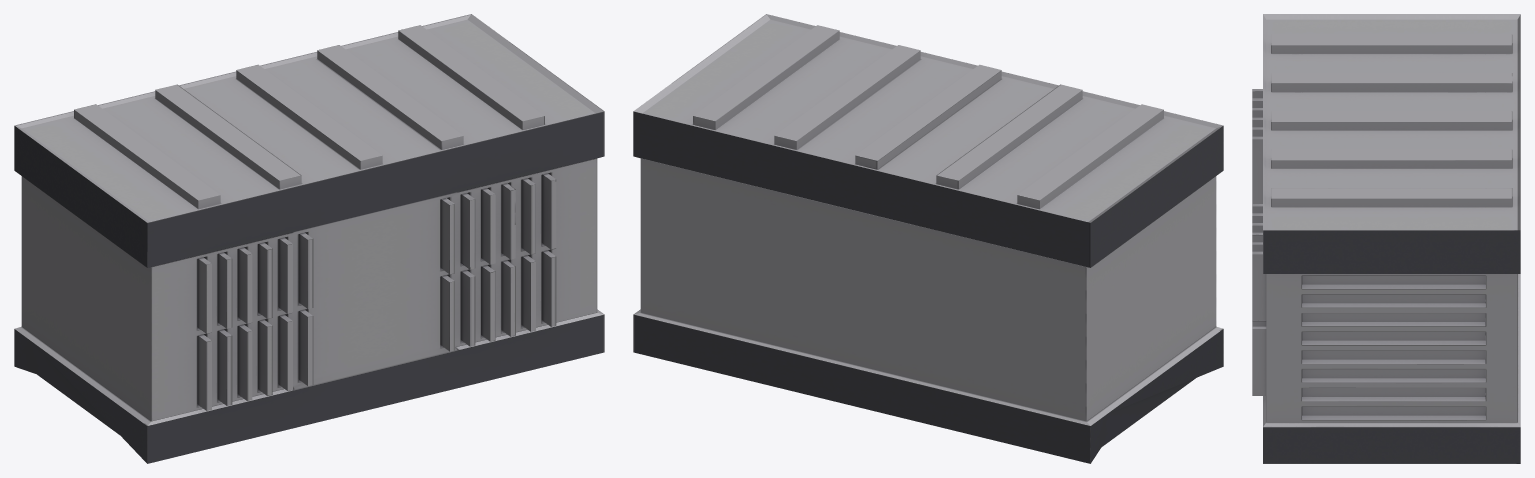
Rendered from nuclearbuilding3.glb.
3 renders of one model, left to right at view 1: azimuth 30°, elevation 25°; view 2: azimuth 150°, elevation 25°; view 3: azimuth 270°, elevation 25°, orthographic. The views are drawn at different scales.
Parts seen in each view (by area): view 1: Cube.017; view 2: Cube.017; view 3: Cube.017.
Part boxes in pixels (x1,y1,x2,y2): Cube.017: [14, 14, 604, 463]; Cube.017: [633, 14, 1223, 463]; Cube.017: [1252, 14, 1520, 463].
Size of the model in its own units: 1.26 by 0.6487 by 0.6604.
2 materials, 2 textured.
